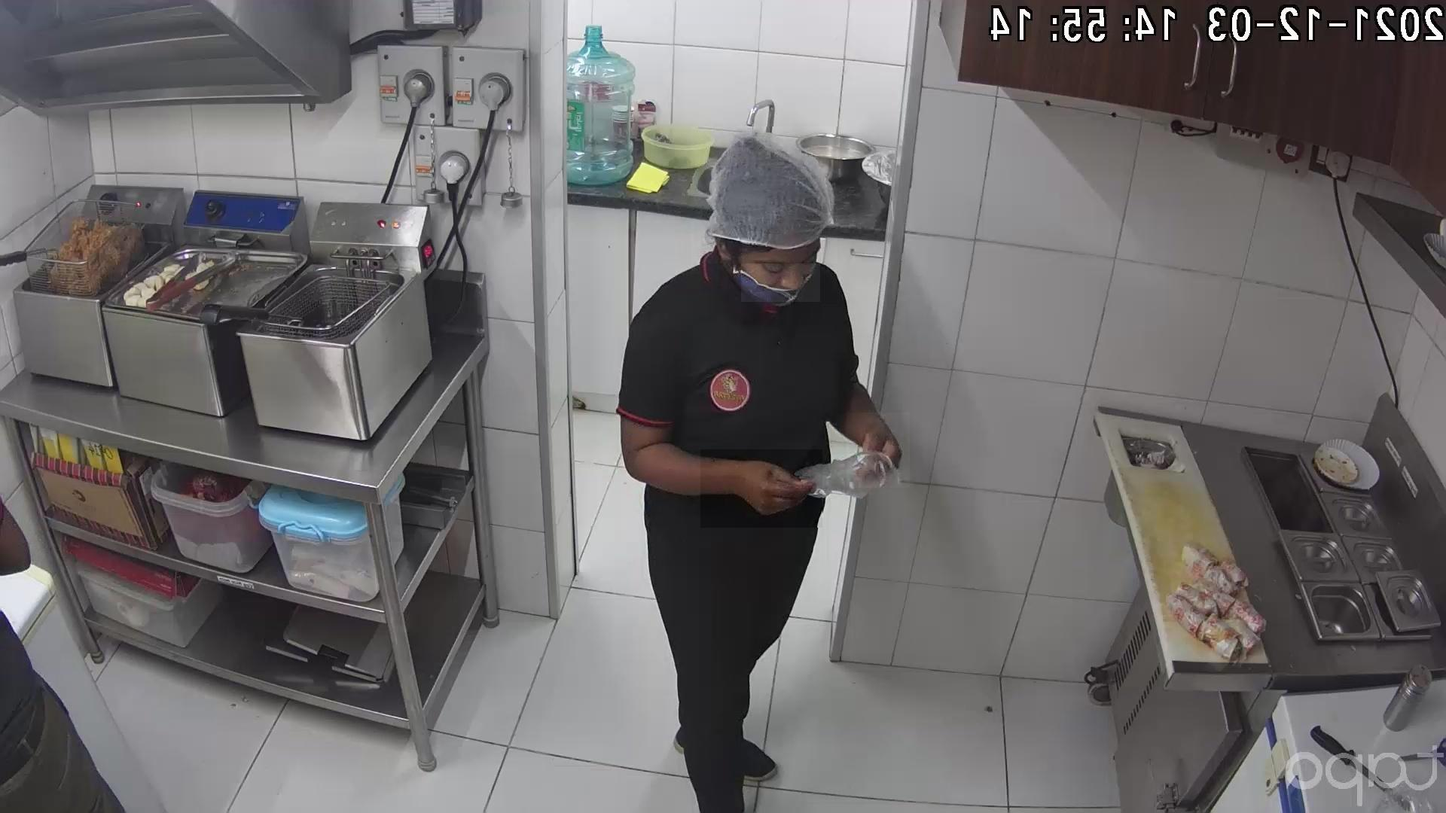gloves: (691, 126, 838, 263)
no_apron: (701, 450, 823, 528), (847, 413, 910, 488)
no_hairnet: (741, 232, 820, 303)
